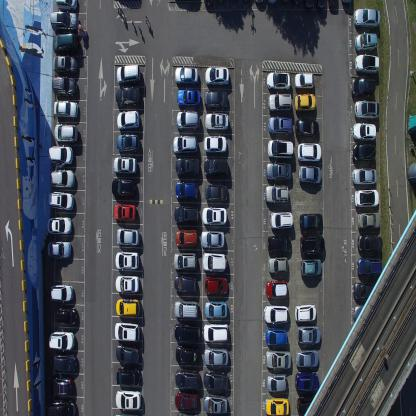car: (353, 7, 380, 30), (50, 10, 78, 32), (116, 85, 141, 109), (201, 250, 226, 273), (174, 368, 199, 391), (116, 63, 141, 86), (351, 75, 376, 98), (299, 235, 325, 257), (114, 320, 140, 342), (52, 76, 78, 98), (46, 376, 72, 398), (268, 137, 294, 159), (173, 323, 200, 344), (175, 156, 200, 178), (115, 343, 140, 365), (50, 168, 75, 190), (297, 141, 322, 163), (354, 100, 379, 122), (354, 53, 379, 75), (115, 366, 141, 387), (48, 190, 74, 211), (353, 303, 380, 323), (204, 158, 228, 180), (176, 110, 200, 132), (173, 134, 197, 156), (174, 180, 198, 202), (173, 250, 197, 272), (113, 154, 137, 176), (54, 123, 78, 145), (174, 64, 198, 86), (200, 228, 225, 249), (175, 345, 200, 366), (353, 280, 378, 301), (354, 187, 379, 208), (53, 54, 78, 75), (265, 350, 291, 370), (263, 305, 289, 325), (203, 323, 229, 343), (111, 178, 137, 198), (266, 161, 292, 181), (356, 256, 382, 276), (52, 32, 78, 52), (44, 400, 76, 416), (117, 110, 140, 132), (354, 31, 377, 53), (204, 275, 228, 296), (295, 372, 319, 393), (116, 133, 140, 154), (204, 89, 228, 110), (205, 65, 229, 86), (268, 115, 292, 136), (268, 92, 292, 113), (352, 122, 376, 143), (202, 206, 227, 226), (173, 299, 198, 319), (203, 372, 228, 392), (115, 390, 140, 410), (114, 250, 139, 270), (54, 99, 79, 119), (266, 71, 291, 91), (48, 146, 74, 165), (48, 330, 74, 349), (357, 233, 383, 252), (204, 135, 227, 156), (113, 201, 136, 222), (297, 325, 321, 345), (205, 112, 229, 132), (174, 204, 198, 224), (116, 227, 140, 247), (47, 239, 71, 259), (177, 88, 201, 108), (298, 164, 322, 184), (295, 118, 319, 138), (352, 142, 376, 162), (47, 216, 72, 235), (203, 348, 229, 366), (296, 349, 318, 370), (294, 92, 316, 113), (294, 304, 317, 324), (265, 280, 288, 300), (204, 301, 228, 320), (264, 328, 288, 347), (205, 183, 229, 202), (203, 395, 227, 414), (267, 236, 291, 255), (269, 211, 293, 230), (264, 185, 288, 204), (115, 274, 139, 293), (52, 354, 76, 373), (115, 298, 140, 316), (49, 284, 74, 302), (352, 167, 377, 185), (300, 258, 322, 278), (358, 210, 380, 230), (175, 228, 198, 247), (173, 275, 196, 294), (174, 392, 198, 410), (298, 214, 322, 232), (297, 396, 320, 414), (56, 306, 77, 325), (265, 398, 289, 414), (294, 71, 314, 90), (266, 374, 287, 392), (267, 257, 287, 275), (55, 0, 78, 11), (115, 411, 140, 415)
